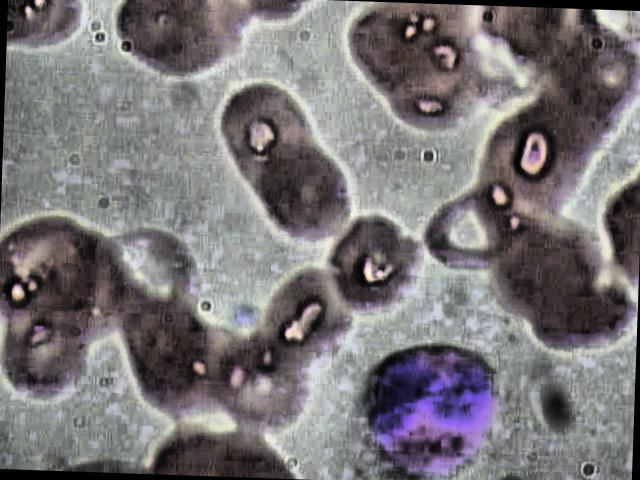Platelets: (227, 300, 265, 332)
RBC: (210, 76, 318, 202), (105, 0, 255, 84), (246, 140, 354, 250), (322, 212, 430, 321), (252, 268, 360, 376), (0, 303, 101, 412)
WBC: (346, 328, 510, 480)
